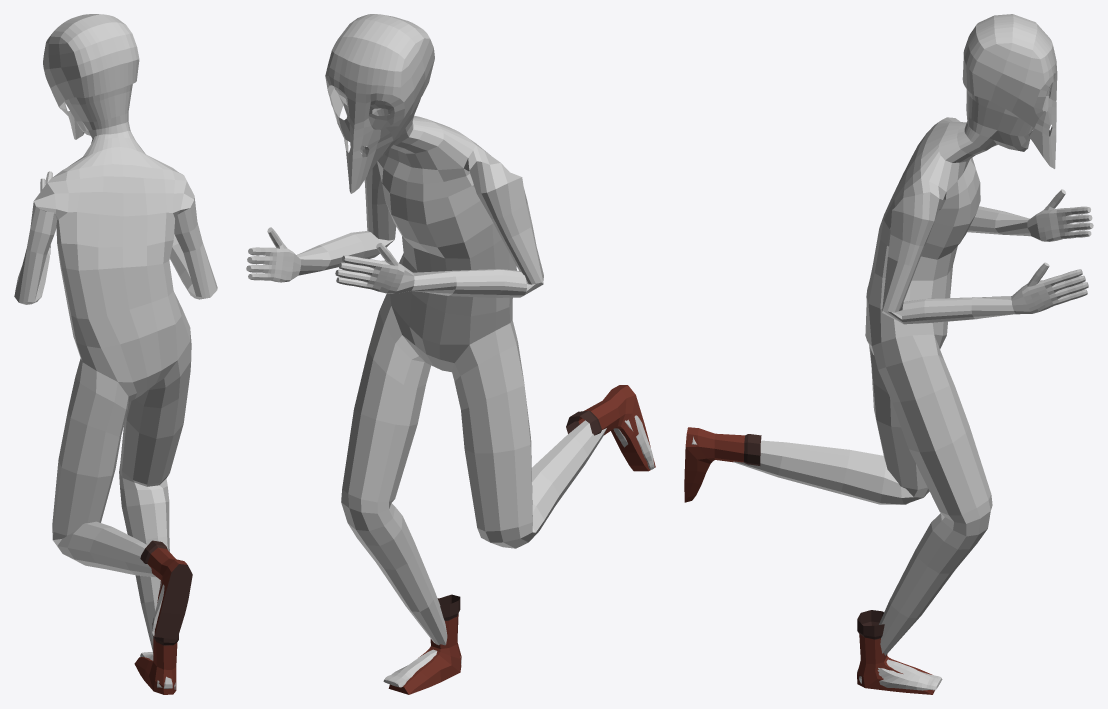
The model's file is correr_000132.obj.
The picture shows the model from 3 angles, left to right: view 1: azimuth 30°, elevation 25°; view 2: azimuth 150°, elevation 25°; view 3: azimuth 270°, elevation 25°; orthographic projection. The views are drawn at different scales.
Parts seen in each view (by area): view 1: Plane.002_Plane.001, Plane.004, Plane.003; view 2: Plane.002_Plane.001, Plane.004, Plane.003; view 3: Plane.002_Plane.001, Plane.004, Plane.003.
Boxes of the visible parts, x1,y1,x2,y2 form: Plane.002_Plane.001: (14,14,217,689); Plane.004: (140,540,192,639); Plane.003: (134,623,178,694); Plane.002_Plane.001: (246,14,654,687); Plane.004: (566,385,655,471); Plane.003: (388,594,461,694); Plane.002_Plane.001: (692,14,1093,690); Plane.004: (684,427,761,502); Plane.003: (857,610,934,694).
Size of the model in its own units: 2.09 by 6.44 by 3.62.
